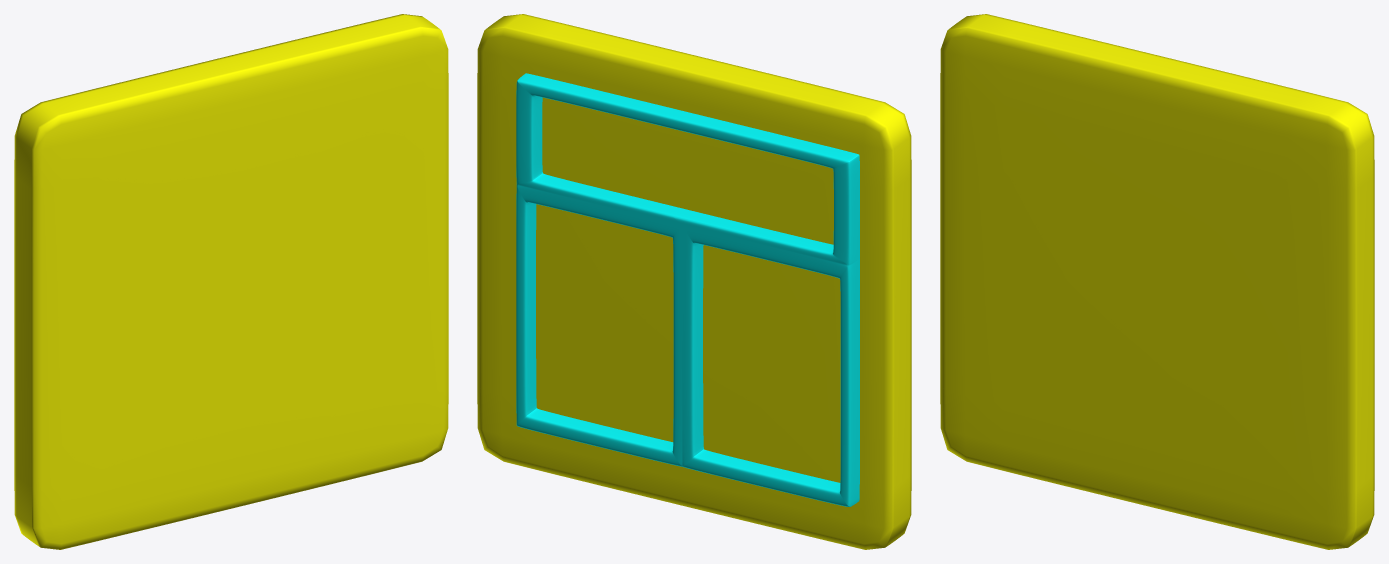
3 renders of one model, left to right at view 1: azimuth 30°, elevation 25°; view 2: azimuth 150°, elevation 25°; view 3: azimuth 330°, elevation 25°, orthographic.
Visible parts, largest first — view 1: polySurface974; view 2: polySurface974; view 3: polySurface974.
Boxes of the visible parts, x1=… form: polySurface974: x1=14, y1=14, x2=448, y2=549; polySurface974: x1=477, y1=14, x2=911, y2=549; polySurface974: x1=940, y1=14, x2=1374, y2=549.
Bounding box in the file's own units: 0.9994 × 0.9994 × 0.1397.
